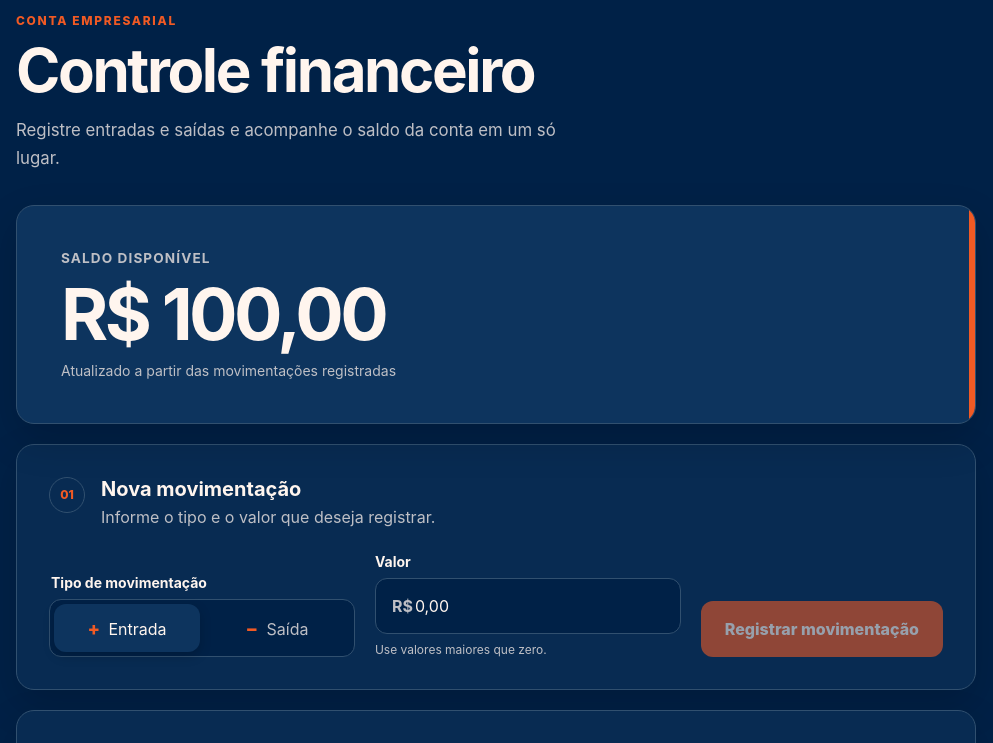
Test: App › keeps success context and offers retry when refresh fails after creation
Expected: the text "R$ 100,00" is shown, [61,270,385,357]
Type "1000" into the field labelled "Valor" at (546, 606), box [413,595,680,617]
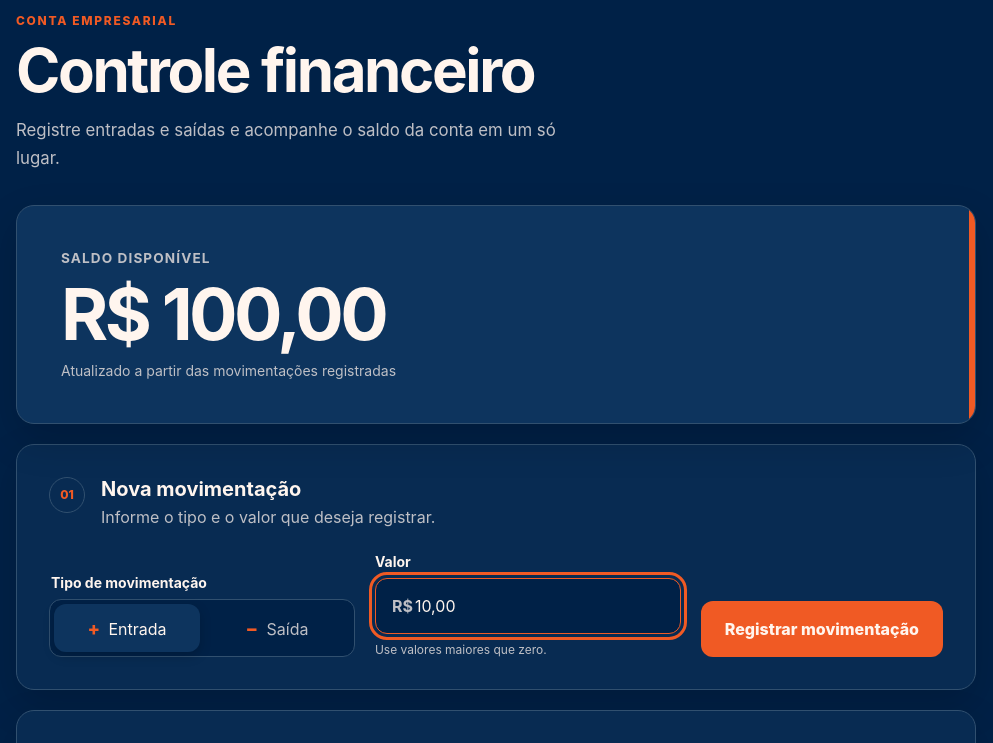
Click the button "Registrar movimentação" at (822, 629), box [701,601,943,657]
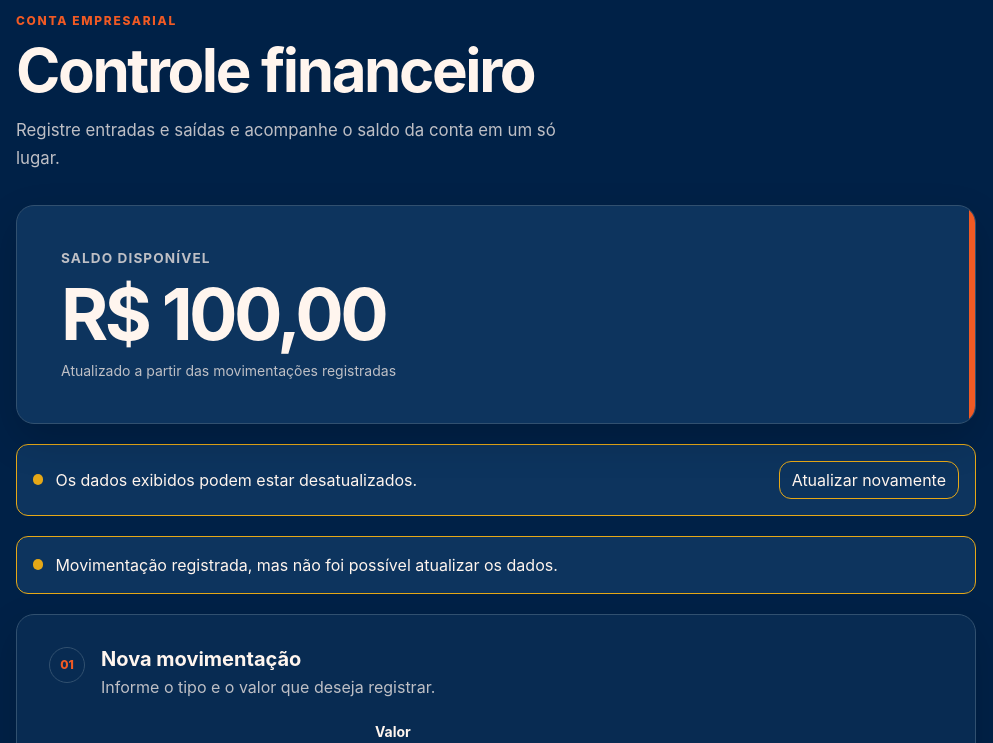
Expected: the text "R$ 100,00" is shown, [61,270,385,357]
Expected: the text "Movimentação registrada, mas não foi possível atualizar os dados." is shown, [55,555,558,575]
Expected: the button "Atualizar novamente" is shown, [779,461,959,499]
